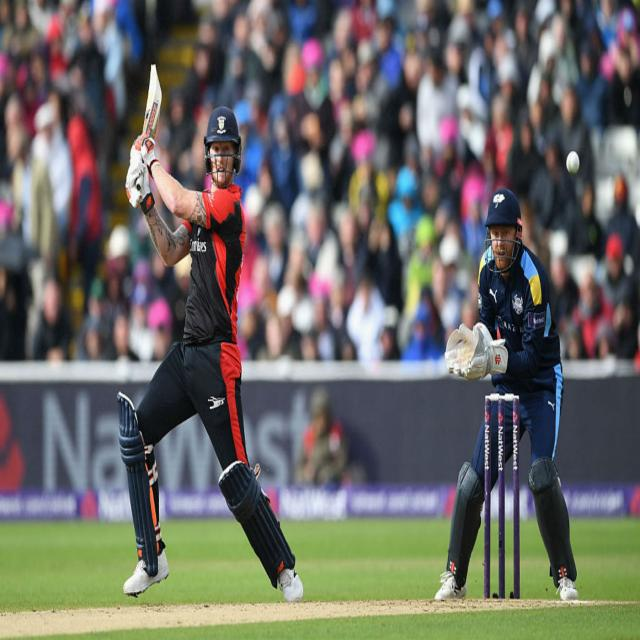ball: (566, 148, 582, 181)
stump: (483, 394, 522, 603)
